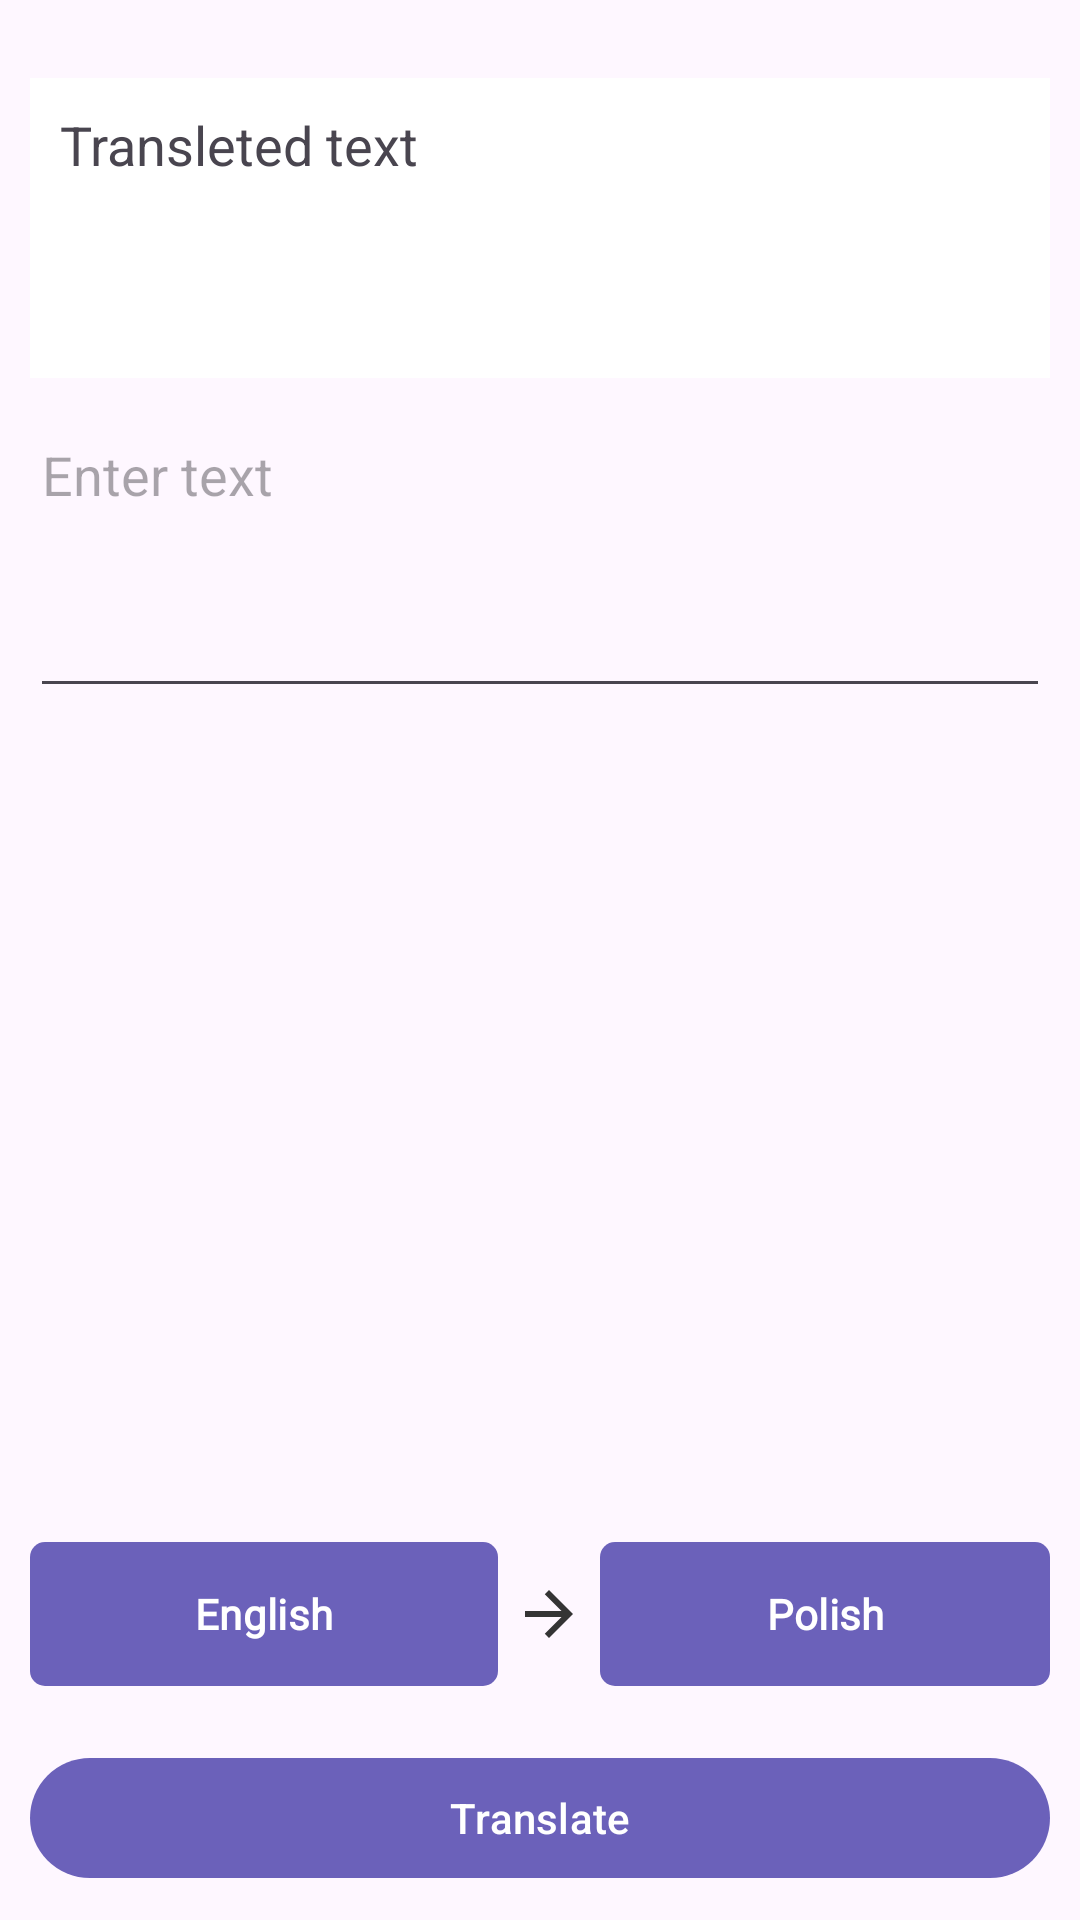

Where to tap for icons on this 1080px×1920px app screen, as [x,y]:
arrow: [549,1614]
